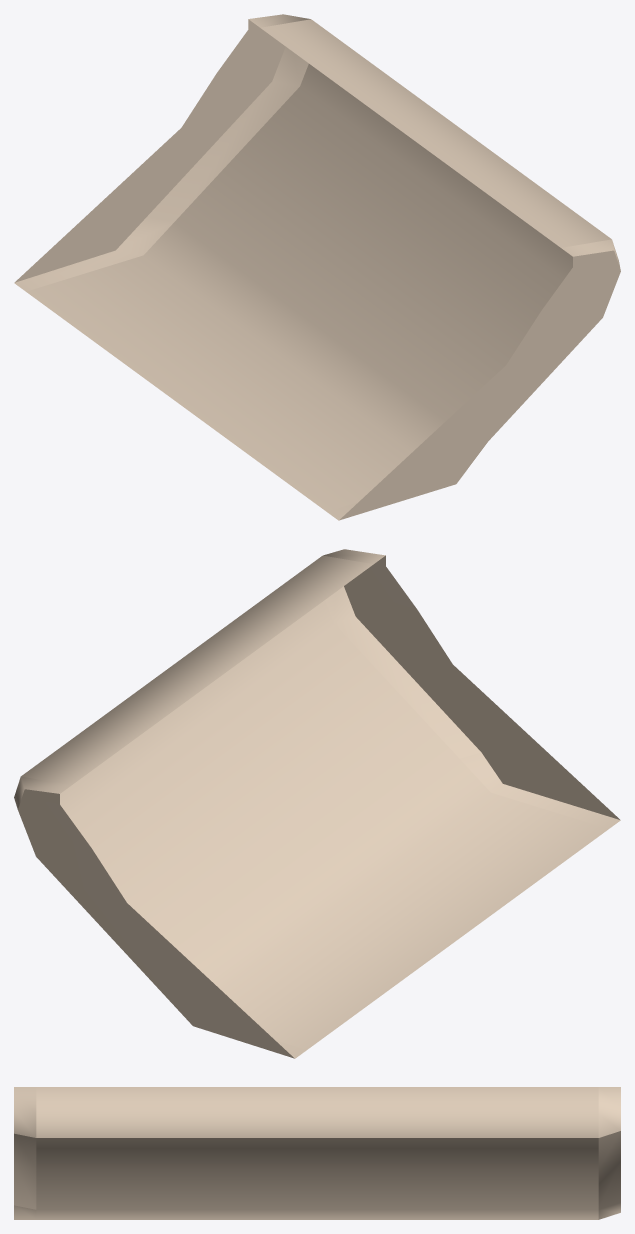
File: Module_Ss_wall_1X_H1.FBX
3 views of the same model, one above another, from view 1: azimuth 30°, elevation 25°; view 2: azimuth 150°, elevation 25°; view 3: azimuth 270°, elevation 25° (orthographic). The views are drawn at different scales.
Parts seen in each view (by area): view 1: Module_Ss_wall_1X_H1; view 2: Module_Ss_wall_1X_H1; view 3: Module_Ss_wall_1X_H1.
Part boxes in pixels (left/top/right/bottom): Module_Ss_wall_1X_H1: left=14, top=14, right=620, bottom=520; Module_Ss_wall_1X_H1: left=14, top=549, right=620, bottom=1058; Module_Ss_wall_1X_H1: left=14, top=1087, right=620, bottom=1219.
Size of the model in its own units: 20.45 by 13.83 by 39.37.
